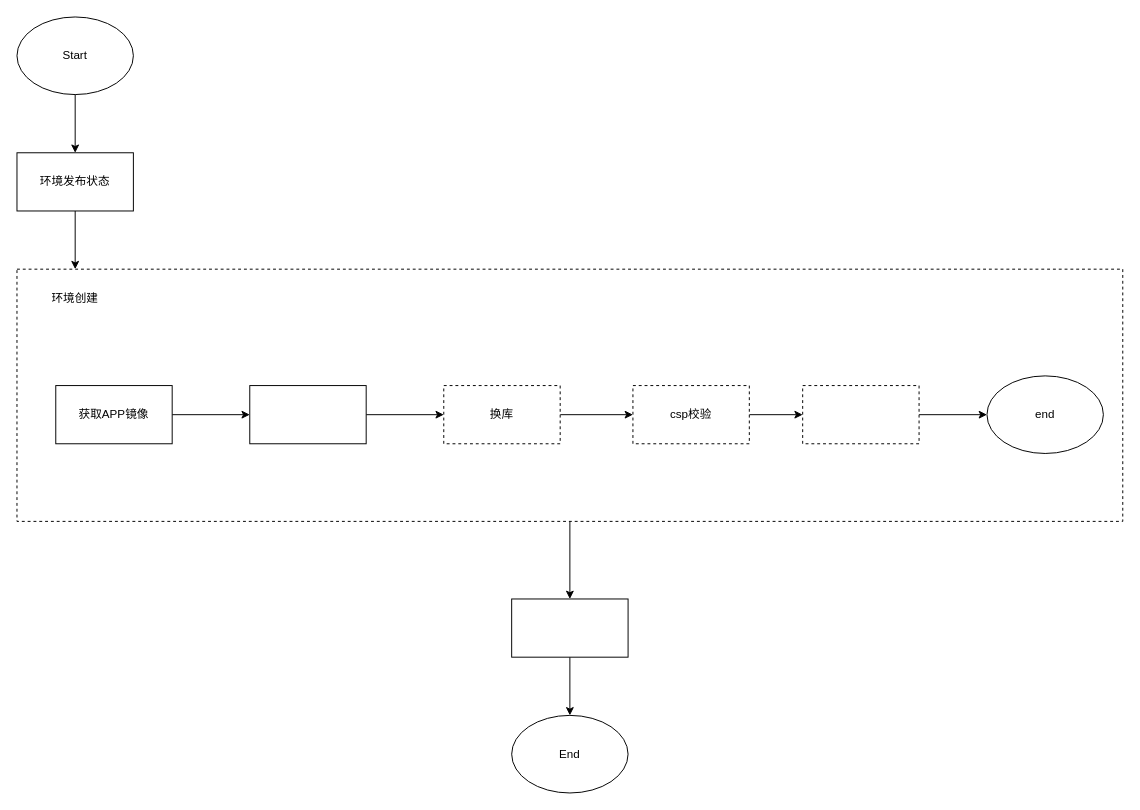
This 1140x810 diagram has some shape labels left out. The shapes that lost their labels are listed below. From the top down, each one's centre as x and y in pixels, then its label:
At [307,414]: "Pandora创建APP".
At [860,414]: "Dump任务".
At [569,627]: "模板发布".
